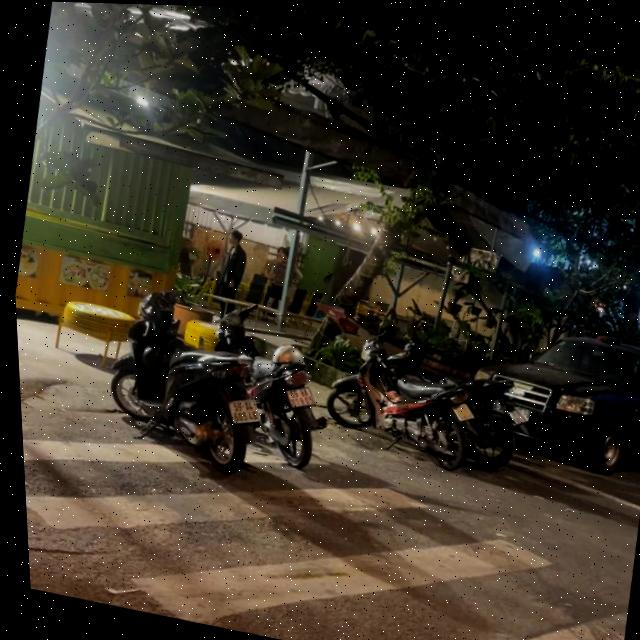car: (440, 310, 640, 494)
motorcycle: (94, 273, 288, 487), (313, 327, 490, 477), (246, 331, 335, 485)
plate: (221, 389, 268, 431), (280, 376, 322, 412)
